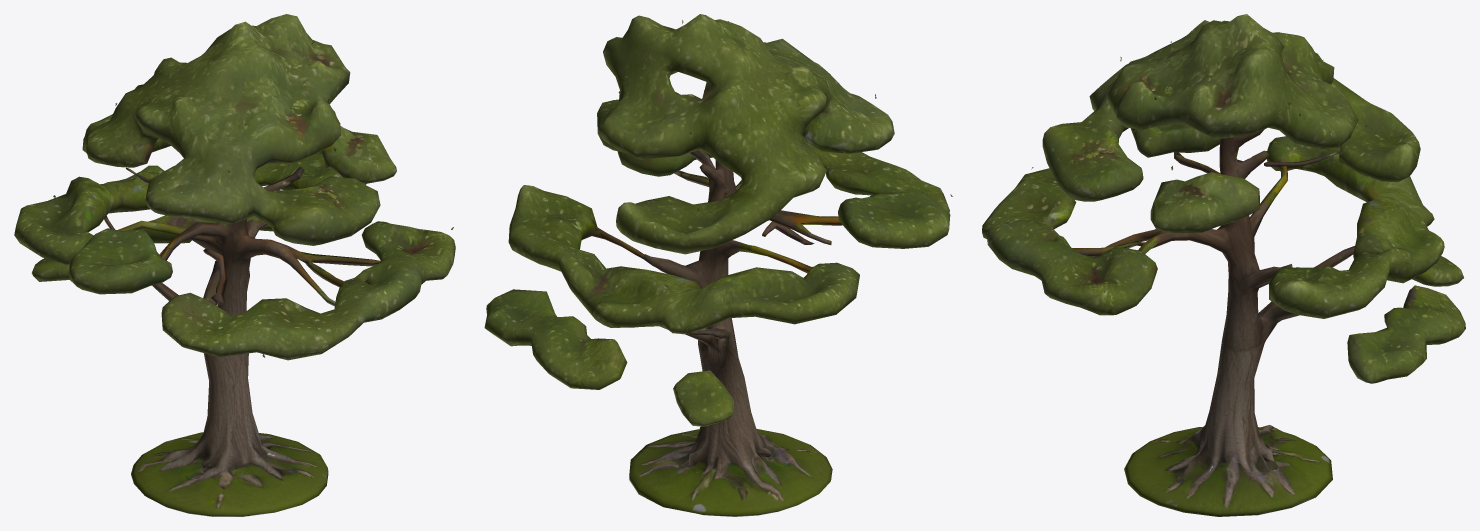
The model's file is tree1.fbx.
3 renders of one model, left to right at view 1: azimuth 30°, elevation 25°; view 2: azimuth 150°, elevation 25°; view 3: azimuth 270°, elevation 25°, orthographic. The views are drawn at different scales.
Parts seen in each view (by area): view 1: tripo_node_70879fea; view 2: tripo_node_70879fea; view 3: tripo_node_70879fea.
Part boxes in pixels (box(x1,y1,x2,y2)): tripo_node_70879fea: box(14, 14, 455, 516); tripo_node_70879fea: box(484, 14, 952, 516); tripo_node_70879fea: box(982, 14, 1465, 516).
Bounding box in the file's own units: 81.51 × 97.74 × 91.41.
Materials: 1 (1 with a texture image).
